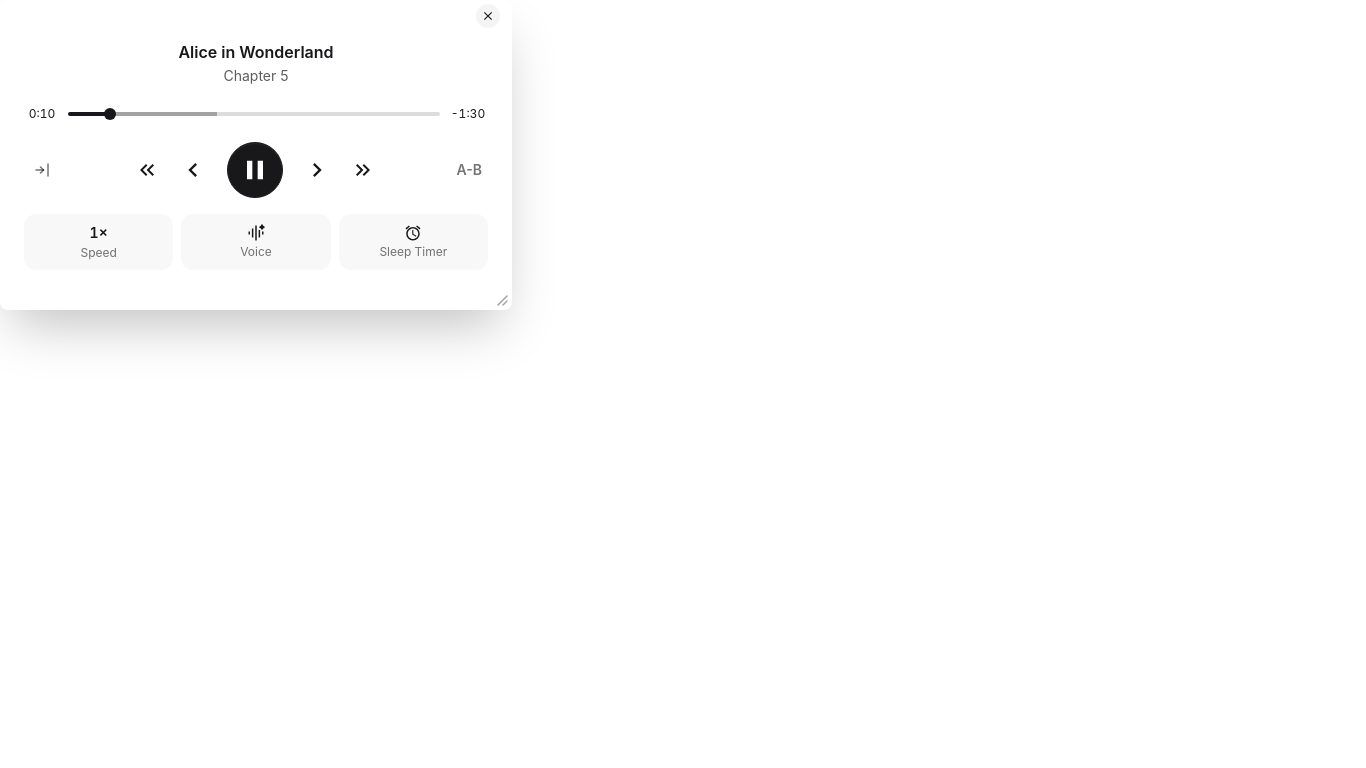
TTSPlayerSheet › premium voices show the plan that unlocks them
The width and height of the screenshot is (1366, 768).
Click the button labelled "Voice": (256,242) [181,214,331,270]
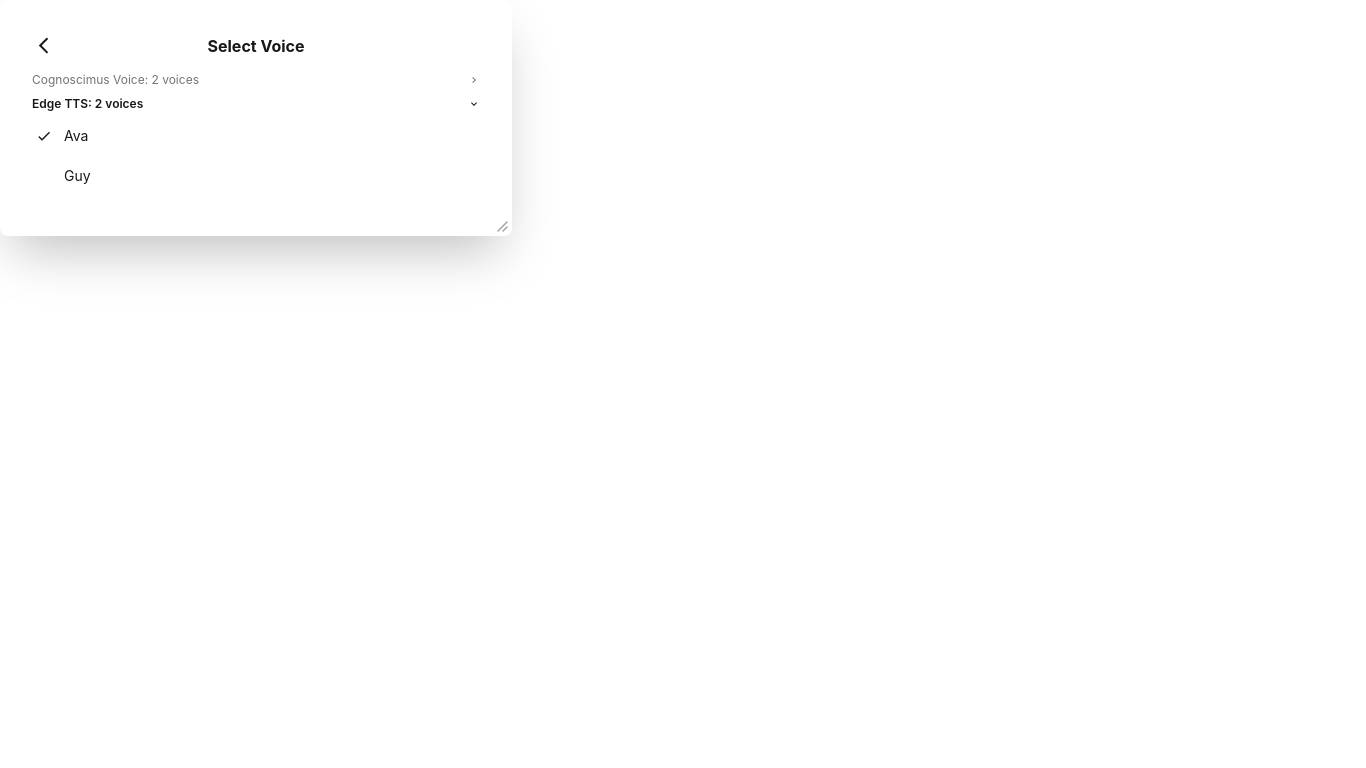
Click the button "Cognoscimus Voice: 2 voices": (115,80) [24,68,488,92]
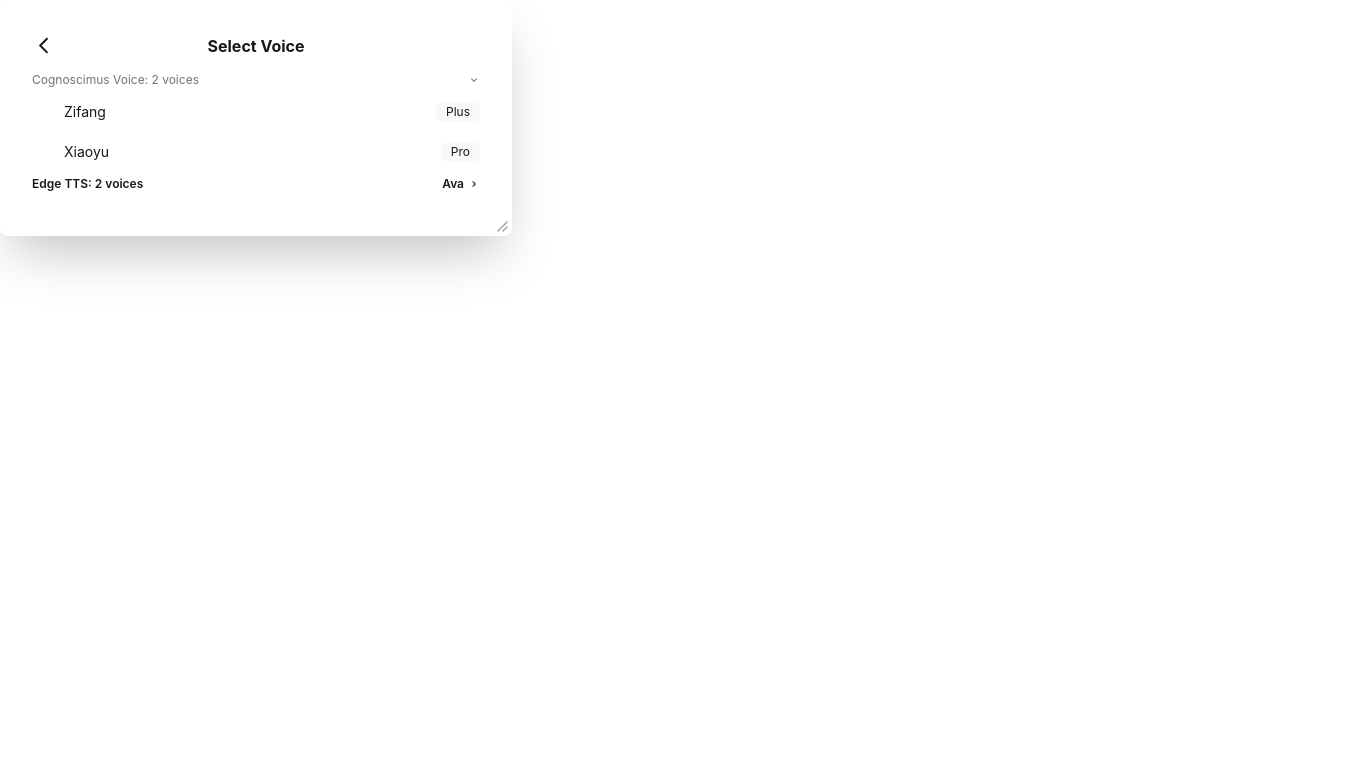
Result: the button "Xiaoyu Pro" is shown at [24,132,488,172]
Result: the button "Zifang Plus" is shown at [24,92,488,132]
Click the button "Edge TTS: 2 voices Ava": (88,184) [24,172,488,196]
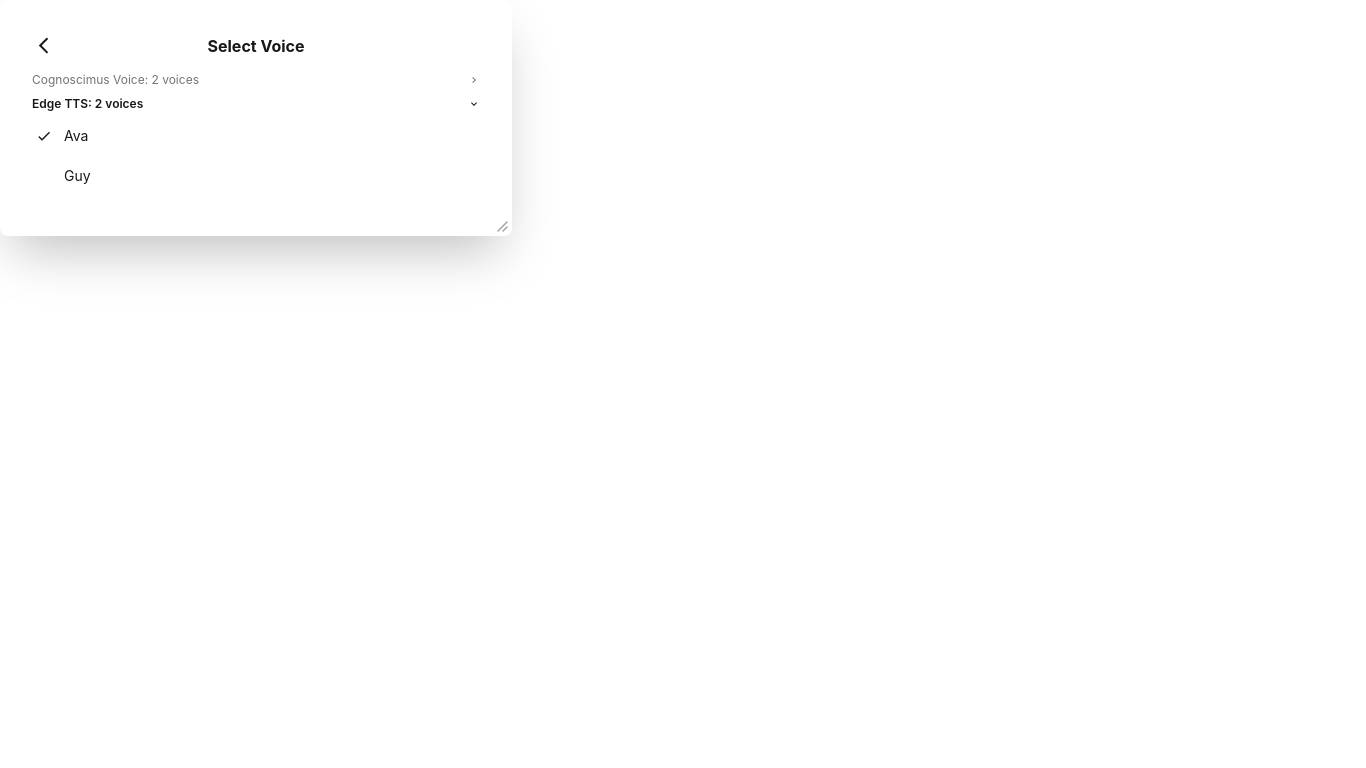
Result: the button "Guy" is shown at [24,156,488,196]
